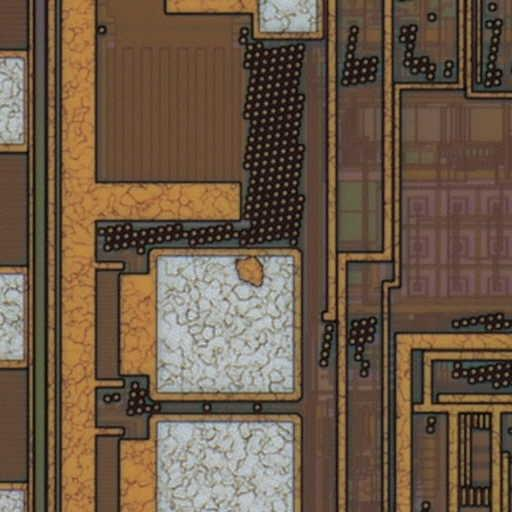BLOCK ETCH: (230, 250, 274, 294)
